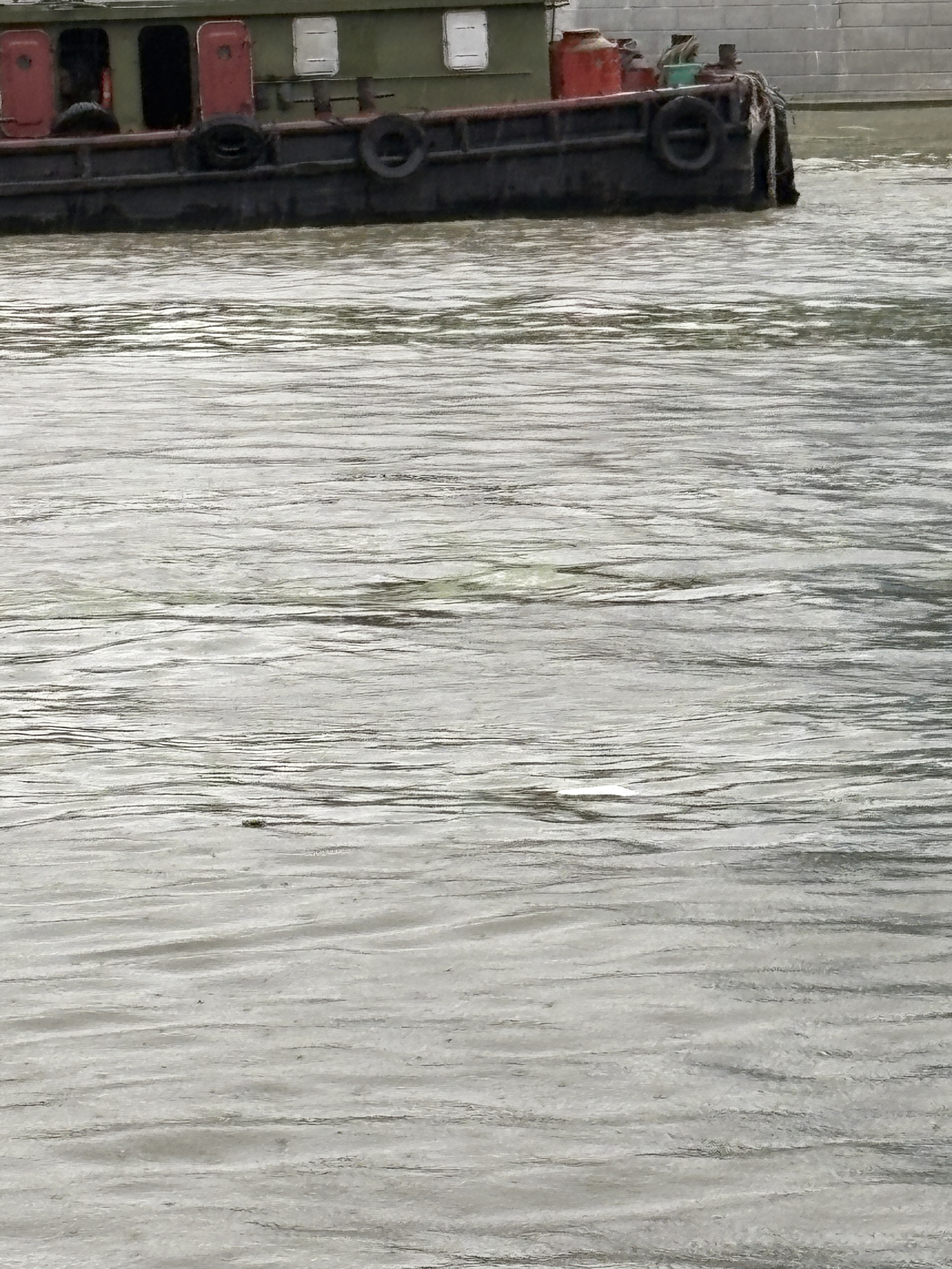Plastic wastes: (586, 423, 601, 526), (613, 905, 622, 945)
